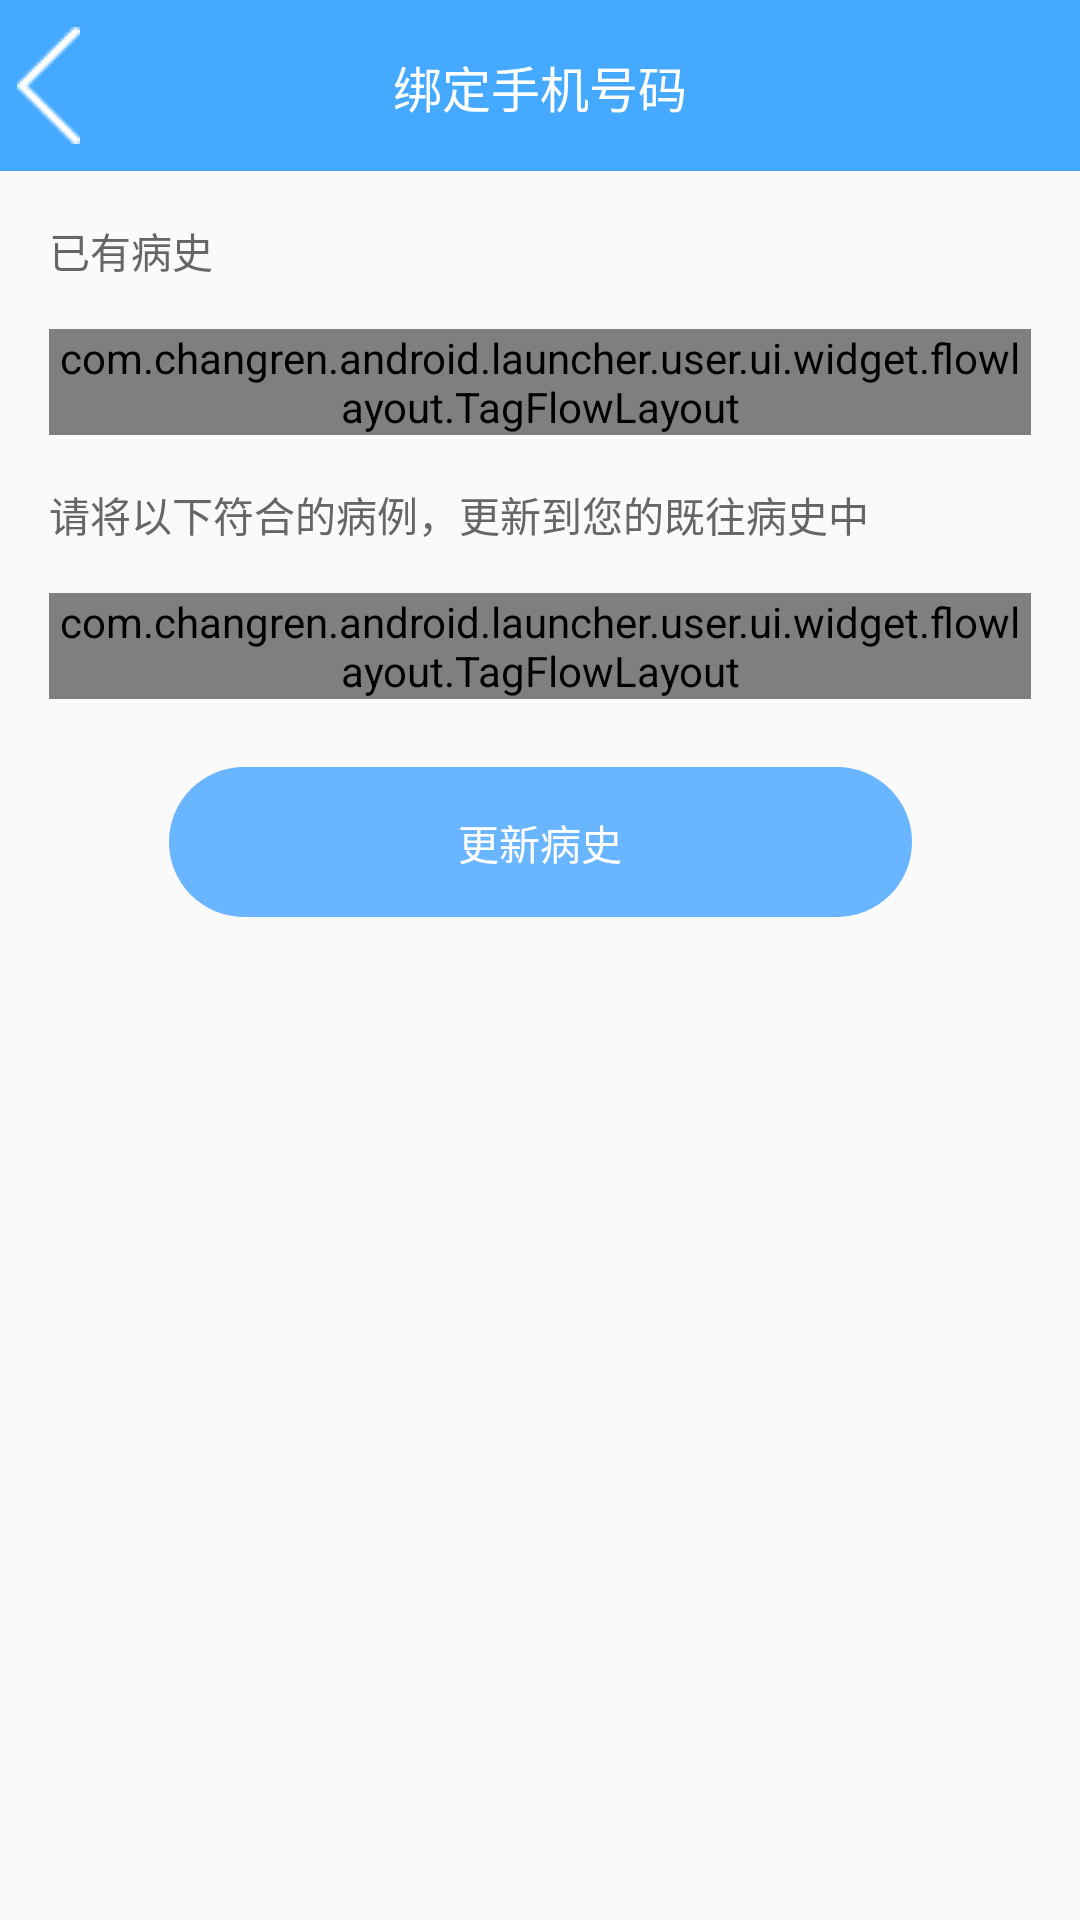

Icon bounding boxes for this 1080w x 1920h phone screenshot, format bbox(x1, y1, x2, y2):
back: bbox(17, 27, 80, 144)
